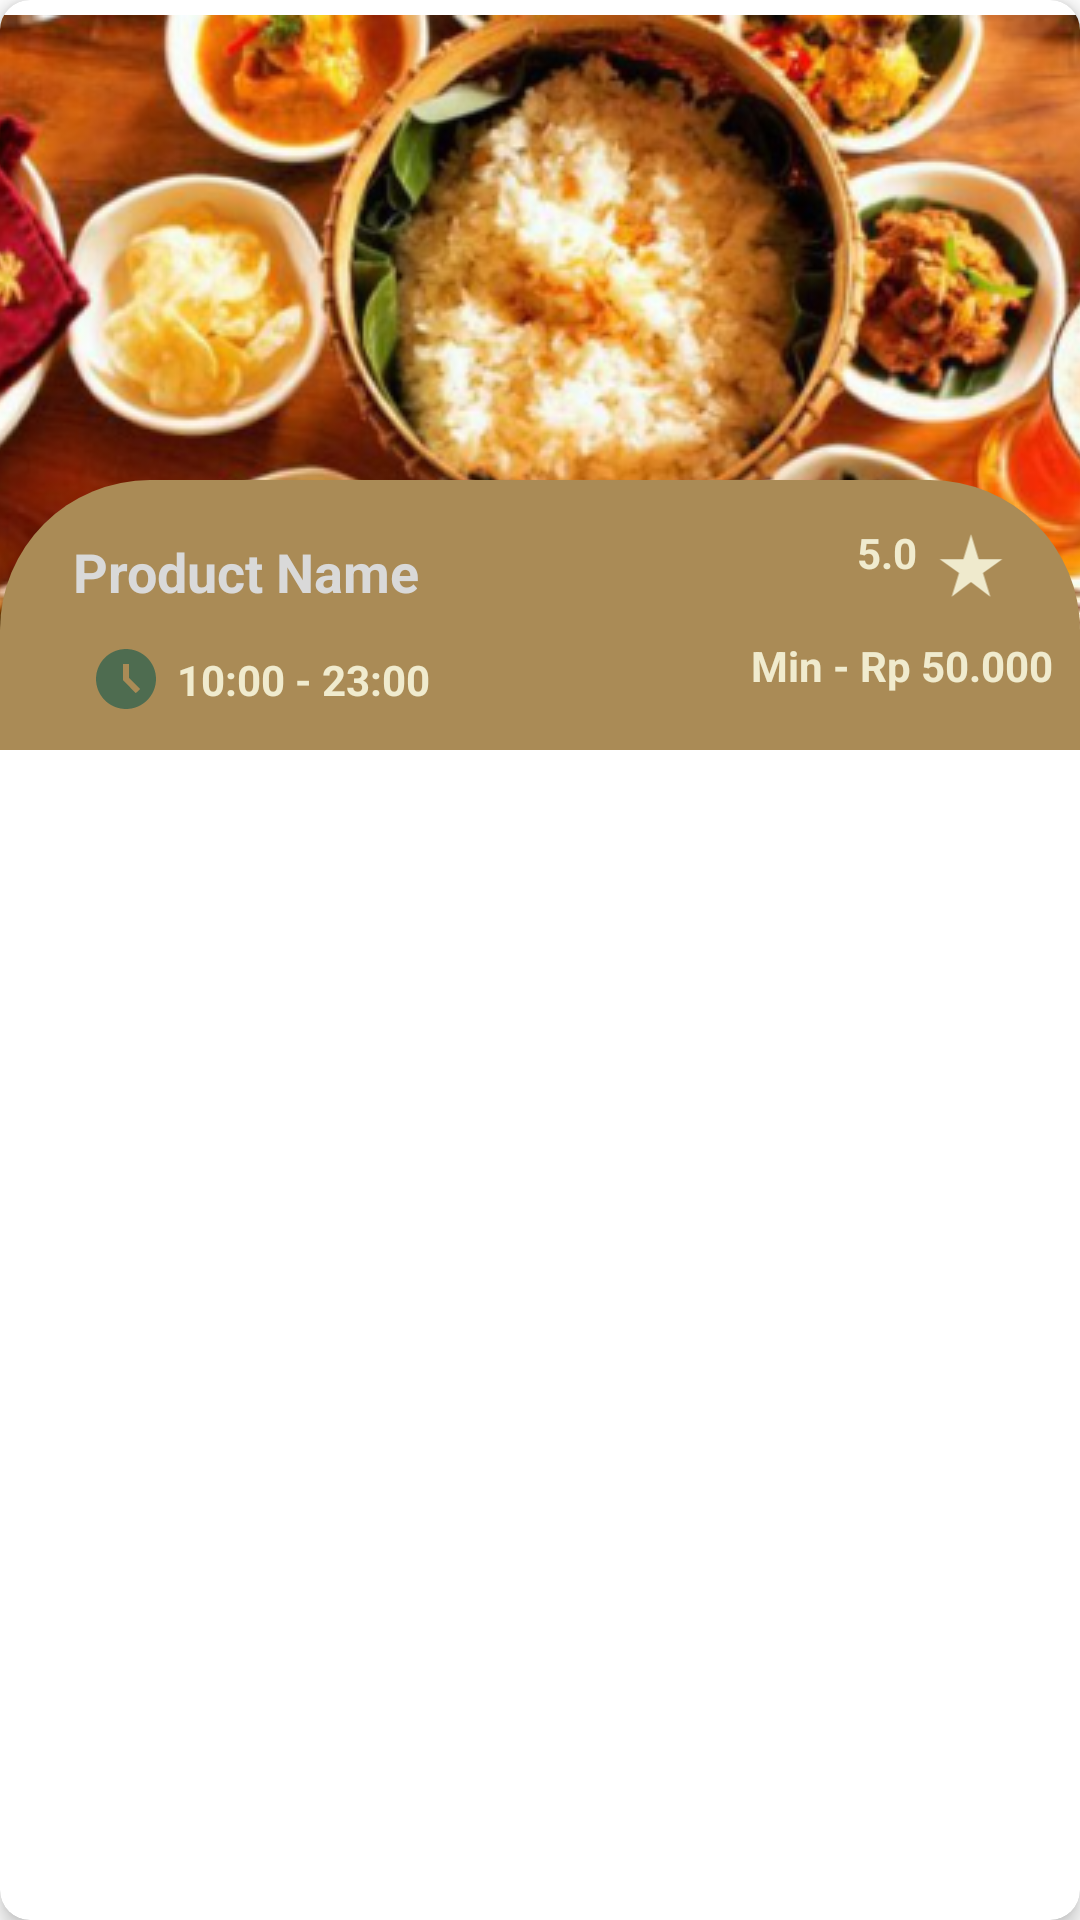

Named icons in this screenshot (1080x1920) and their centers, (x,y):
access time: (126,679)
star rate: (971,565)
